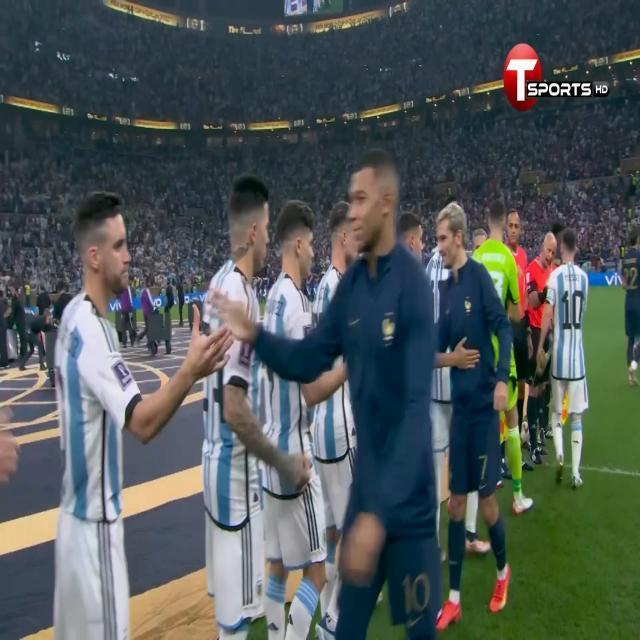goalkeeper: (318, 130, 447, 640), (55, 182, 177, 640), (432, 186, 521, 640), (197, 186, 272, 640), (269, 156, 333, 640), (557, 222, 595, 516)
referee: (527, 218, 560, 475), (507, 206, 528, 467)
